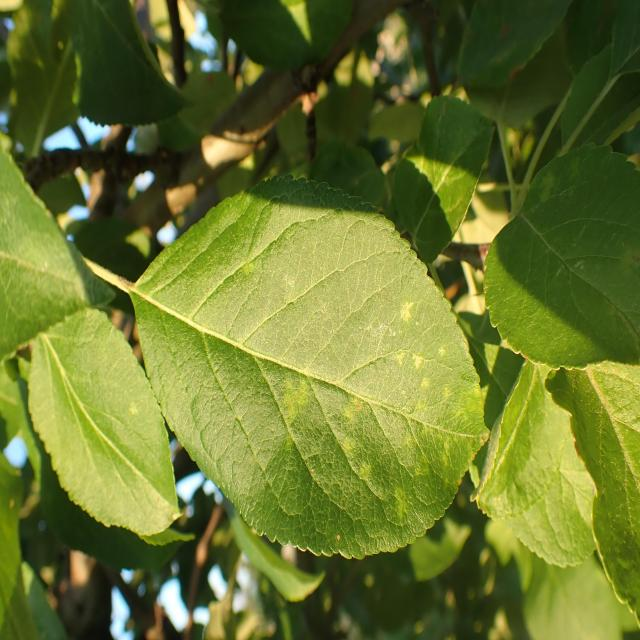scab: (158, 232, 486, 546)
